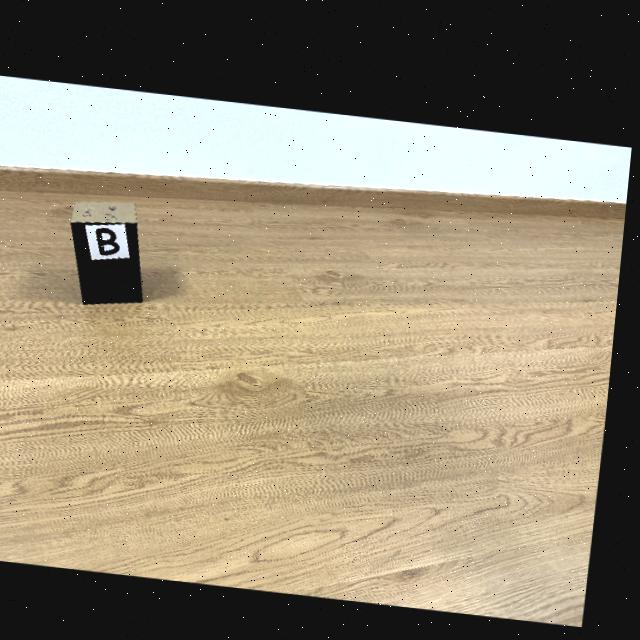B: (100, 225, 125, 254)
